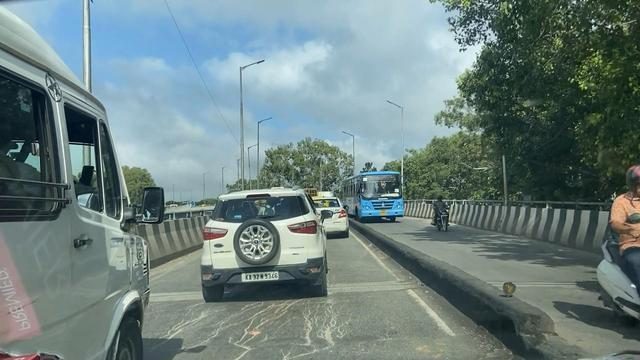LMV: (202, 189, 320, 299), (313, 202, 350, 237)
RoadDamages: (170, 297, 342, 355)
SpeedBump: (330, 273, 420, 295), (154, 289, 203, 303)
